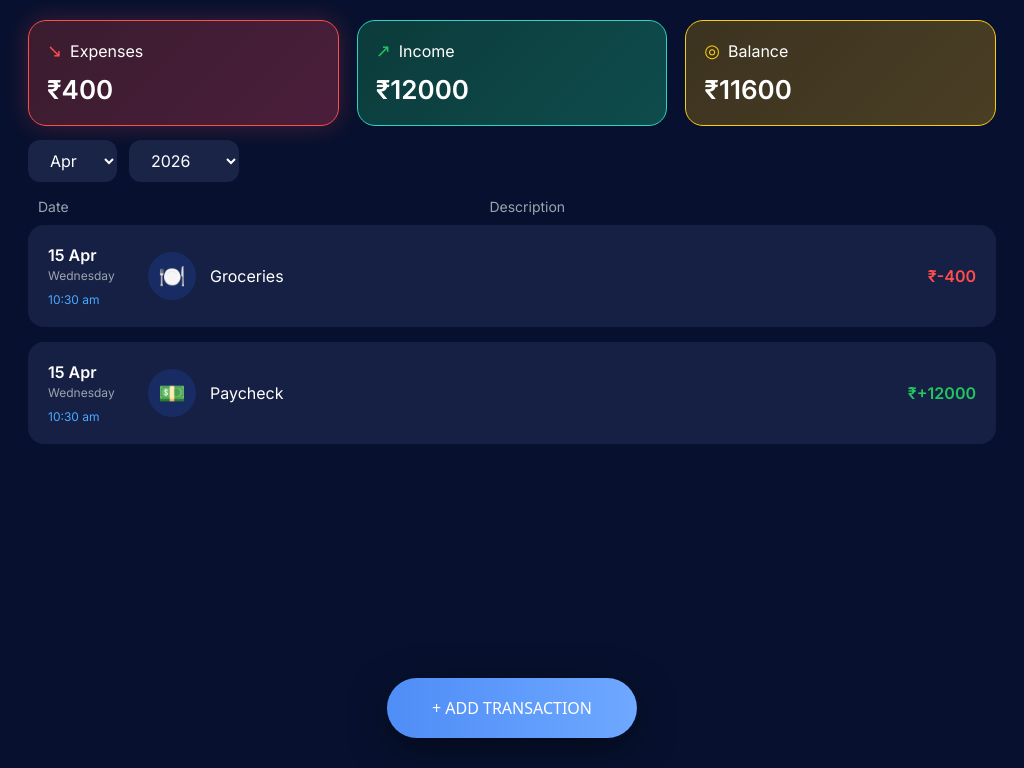
Test case: Records transaction flow › filters transactions when the income, expense, and balance cards are clicked
Expected: the text "Groceries" is shown, [210, 264, 284, 288]
Expected: the text "Paycheck" is shown, [210, 381, 284, 405]
What coordinates should you click on to do the following:
click the text "Income"
I would click on:
 (427, 50)
Its box is [399, 38, 455, 62].
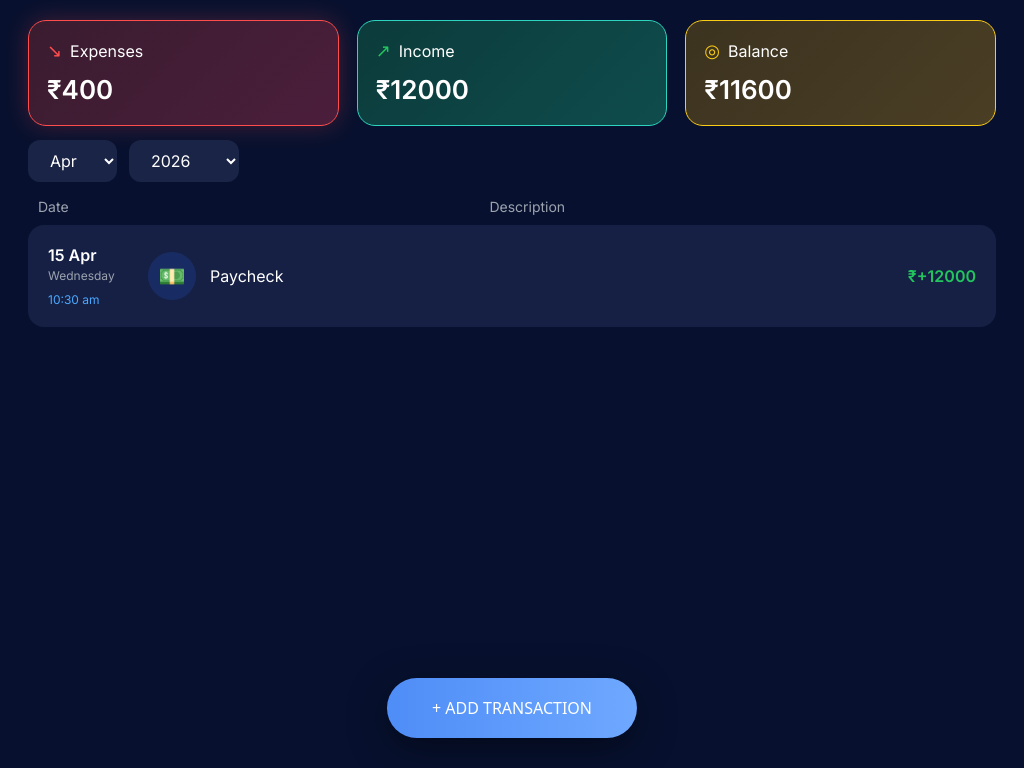
Expected: the text "Paycheck" is shown, [210, 264, 284, 288]
Result: the text "Groceries" is gone
What coordinates should you click on to do the following:
click the text "Expenses"
I would click on:
 (107, 50)
Its box is [70, 38, 143, 62].
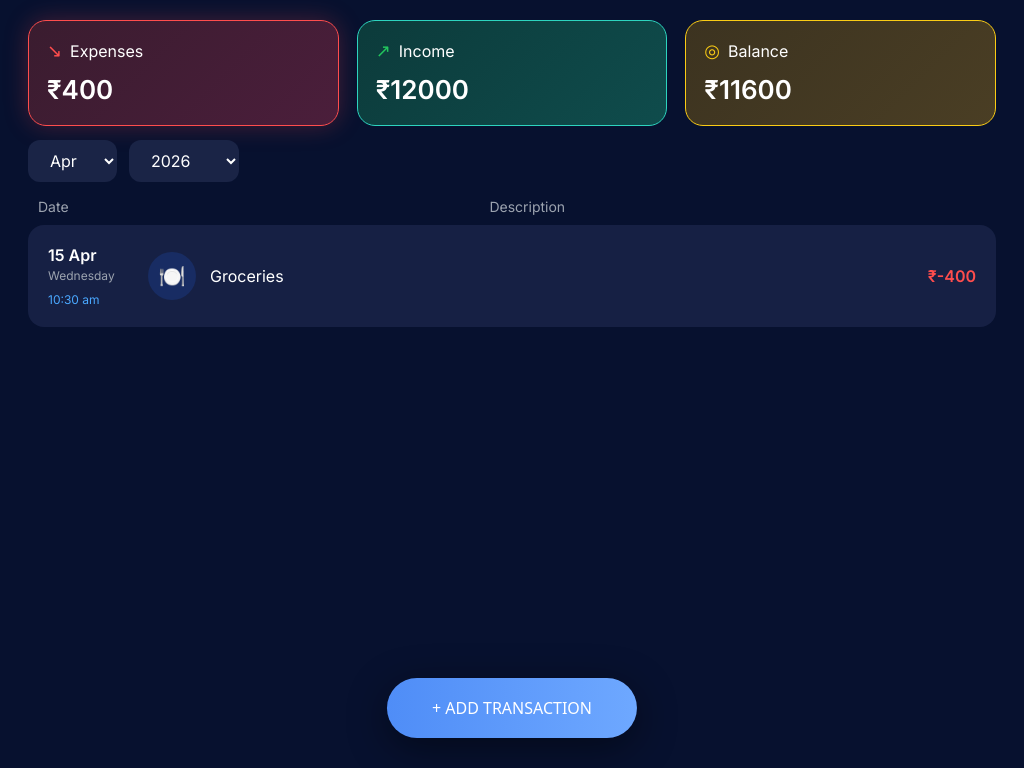
Result: the text "Groceries" is shown at [210, 264, 284, 288]
Result: the text "Paycheck" is gone
What coordinates should you click on to do the following:
click the text "Balance"
I would click on:
 (758, 50)
Its box is [728, 38, 788, 62].
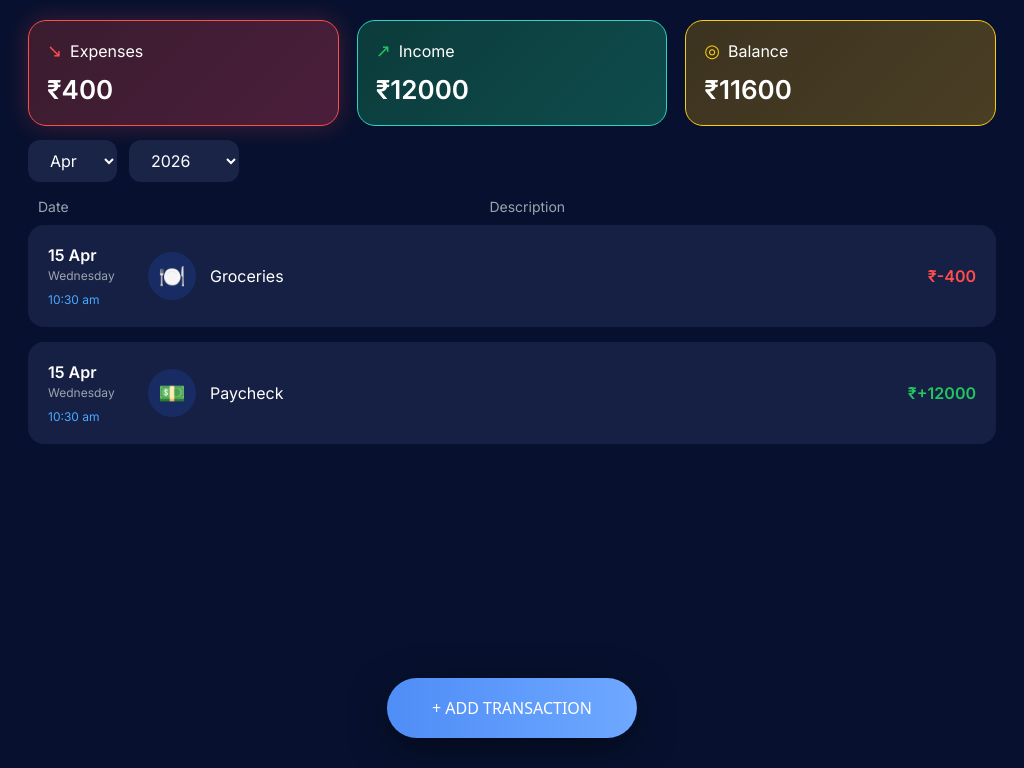
Result: the text "Groceries" is shown at [210, 264, 284, 288]
Result: the text "Paycheck" is shown at [210, 381, 284, 405]
